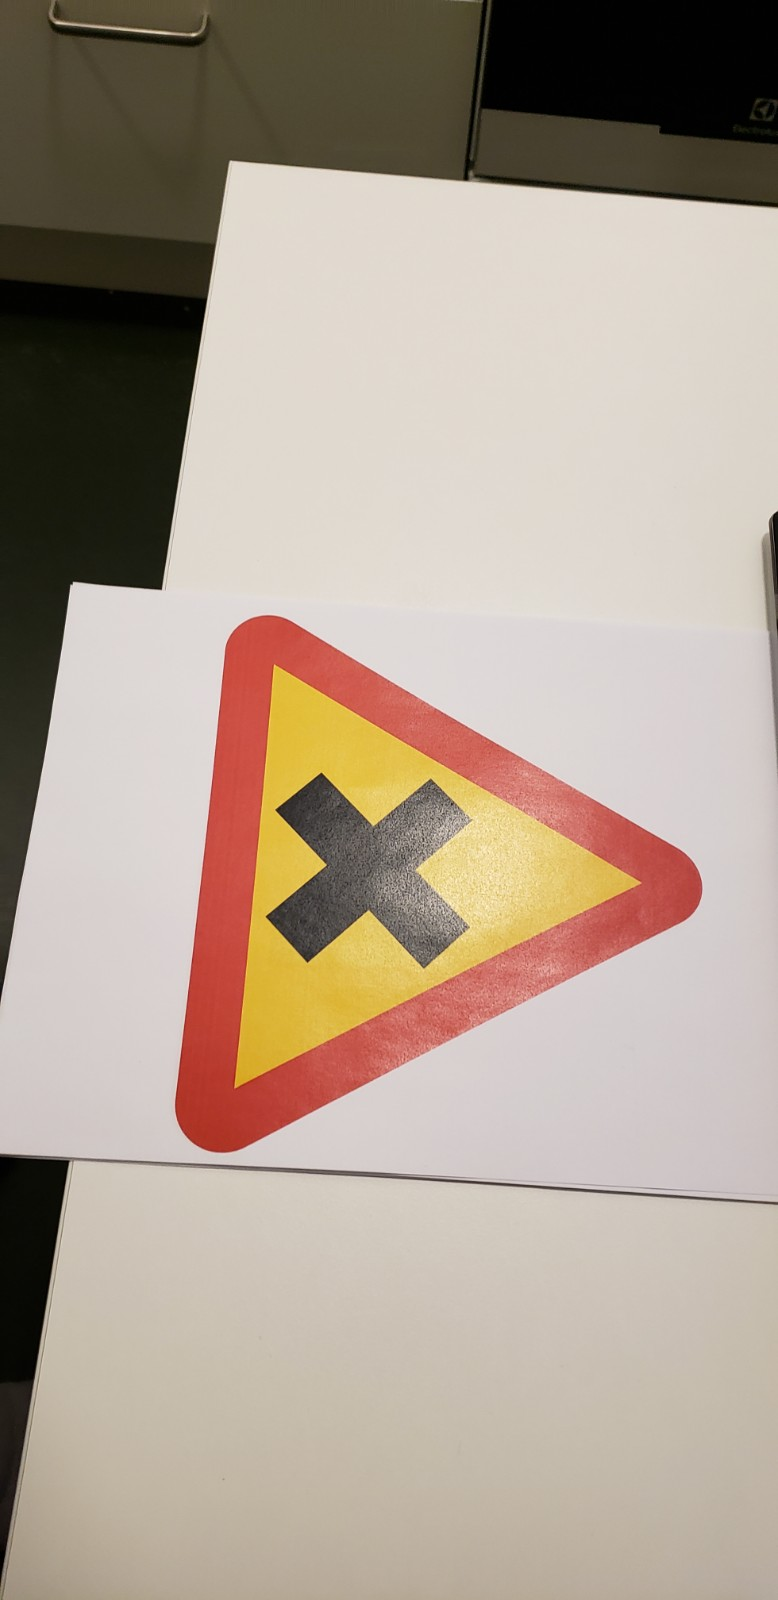junction: (214, 627, 718, 1194)
